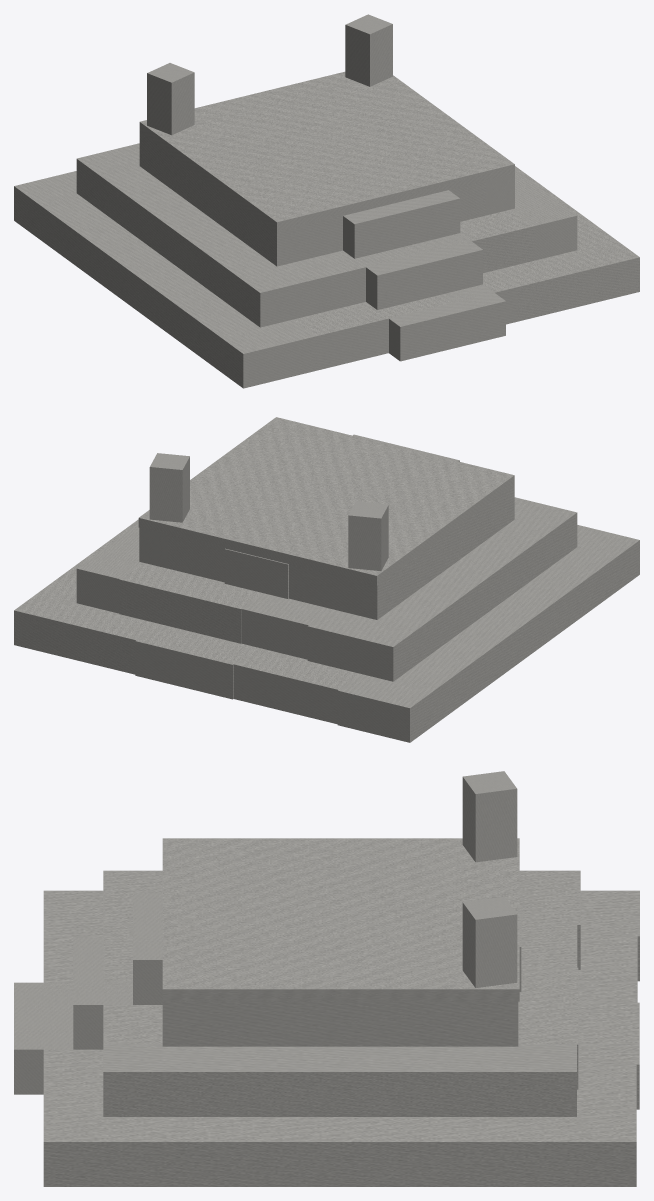
Rendered from andean-terraces-and-stone-village-stepped-platform-e68c4ae8__38259.glb.
3 renders of one model, top to bottom at view 1: azimuth 30°, elevation 25°; view 2: azimuth 150°, elevation 25°; view 3: azimuth 270°, elevation 25°, orthographic. The views are drawn at different scales.
Parts seen in each view (by area): view 1: stepped-platform-stone; view 2: stepped-platform-stone; view 3: stepped-platform-stone.
Part boxes in pixels (x1,y1,x2,y2): stepped-platform-stone: (14,14,639,388); stepped-platform-stone: (14,417,639,742); stepped-platform-stone: (14,771,639,1186).
Bounding box in the file's own units: 6 × 2.4 × 6.31.
Materials: 1 (1 with a texture image).
